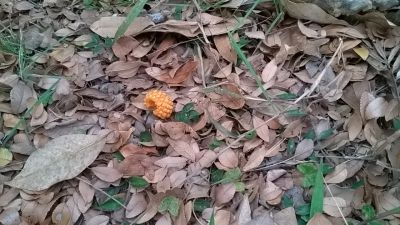eggs: (141, 90, 175, 118)
